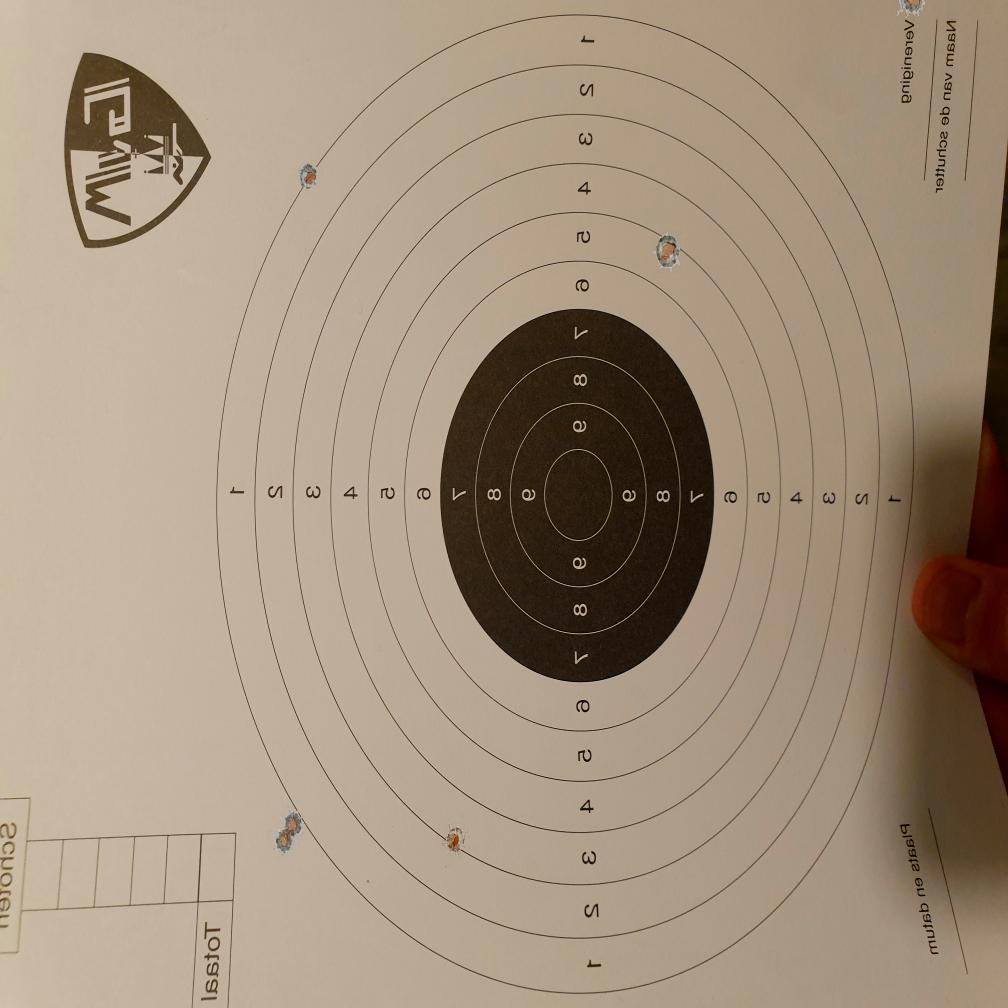0: (272, 830, 295, 855), (896, 0, 925, 19)
1: (297, 161, 318, 192), (282, 807, 304, 833)
3: (442, 824, 469, 858)
5: (652, 231, 681, 272)
Target: (218, 12, 911, 999)
black_contour: (441, 309, 713, 684)
